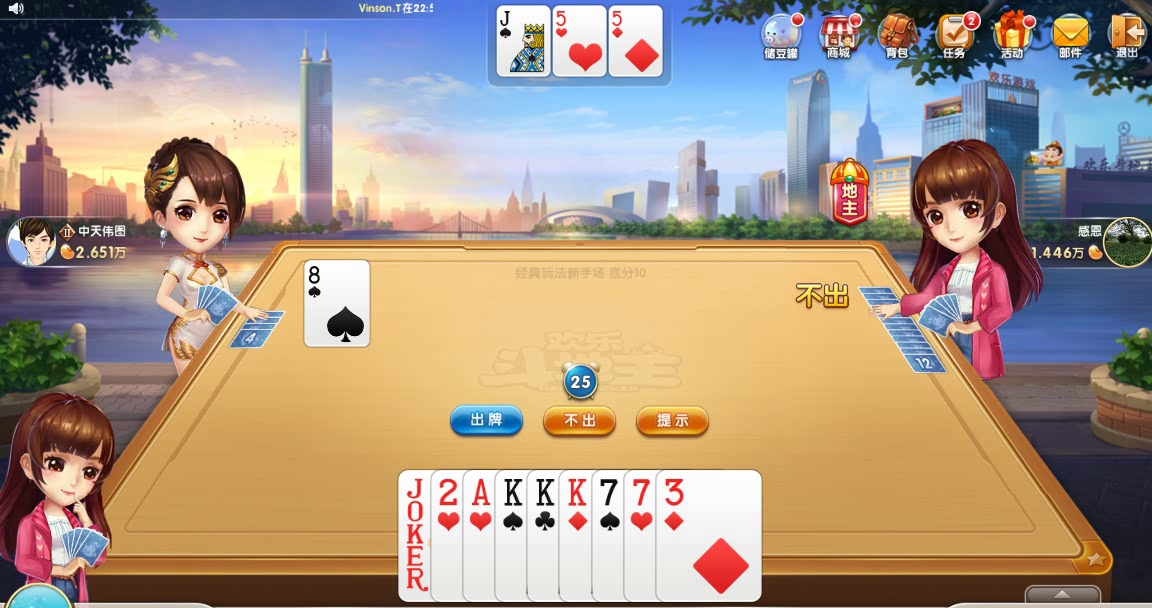11~4: (497, 5, 549, 76)
13~1: (559, 467, 667, 602)
13~2: (525, 467, 633, 602)
13~4: (494, 467, 602, 602)
14~3: (462, 468, 570, 603)
15~3: (431, 469, 539, 604)
18~4: (399, 470, 507, 605)
3~1: (655, 467, 763, 602)
5~1: (610, 5, 662, 76)
5~3: (554, 5, 606, 76)
7~3: (622, 467, 730, 602)
7~4: (590, 467, 698, 602)
8~4: (303, 260, 372, 346)
